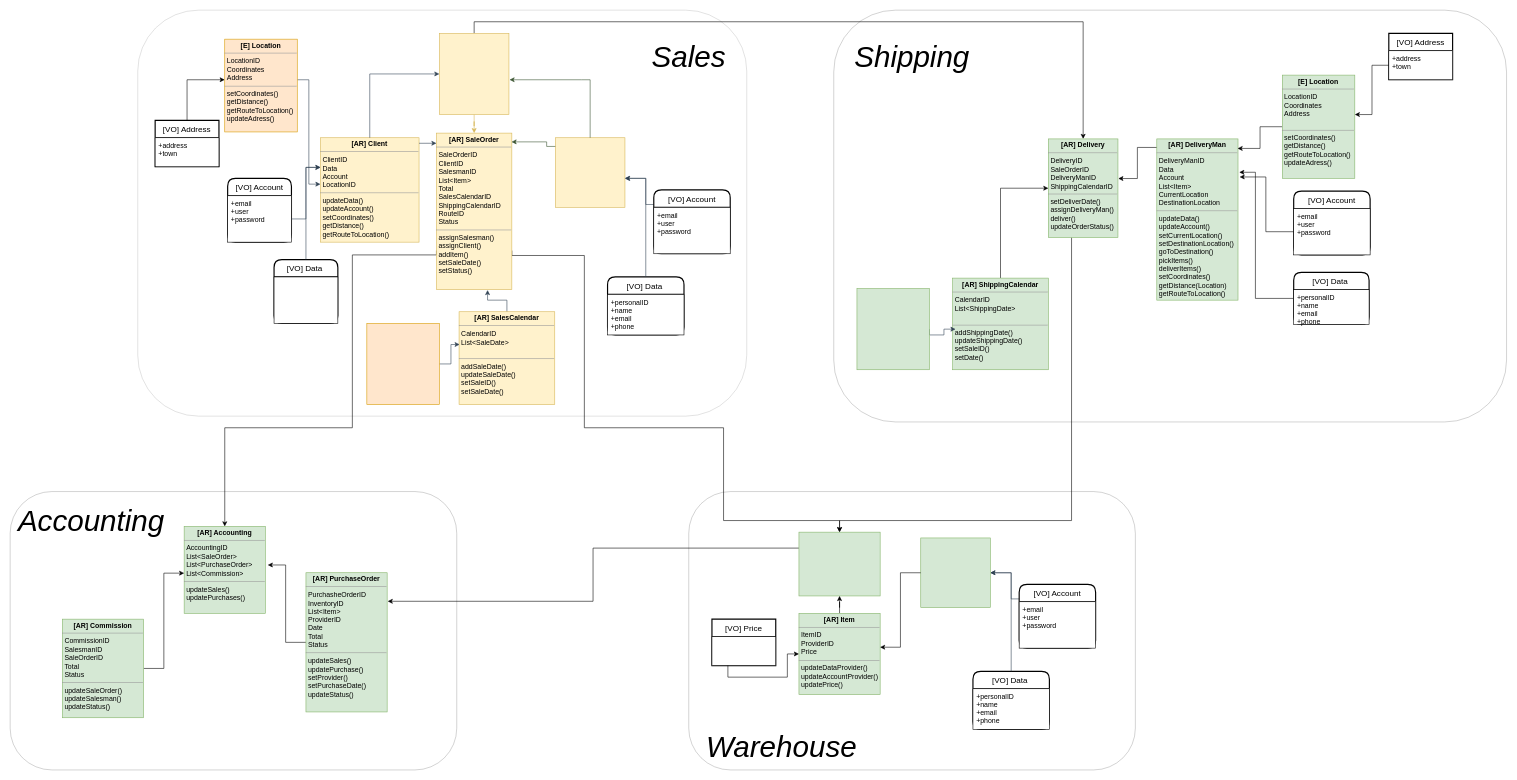
Some shapes in this 1517 by 780 pixel diagram are drawn without their labels. Each missing label, with the box of its shape:
+personalID +name +email +phone +adress: (273, 276, 338, 323)
+purchasePrice +salePrace: (711, 636, 776, 666)
[AR] Inventory InventoryID Map<Item, stock> updateItems(): (798, 532, 880, 596)
[AR] Route RouteID name List<Client> List<Salesman> addClient() addSalesman(): (439, 33, 509, 115)
[AR] Salesman SalesmanID Data Account updateData() updateAccount(): (555, 137, 625, 207)
[E] Provider ProviderID Data Account updateData() updateAccount(): (920, 537, 990, 608)
[E] SaleDate SaleDateID SaleID Date setSaleID setDate: (366, 323, 439, 405)
[E] ShippinDate ShippingDateID SaleID Date setSaleID() setDate(): (856, 288, 929, 370)
